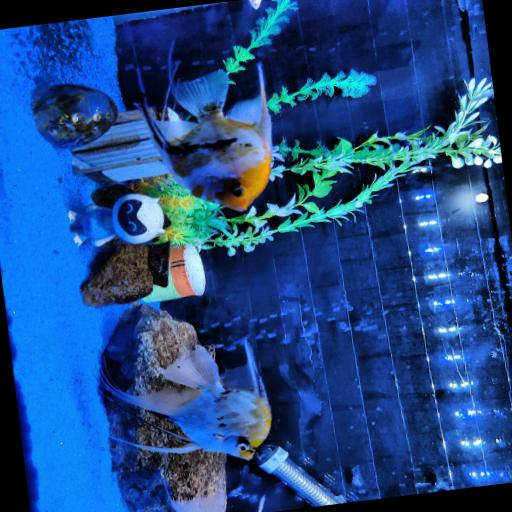Fish: (101, 340, 270, 460), (145, 64, 271, 211), (171, 494, 225, 511), (472, 89, 493, 100), (248, 0, 260, 9)
